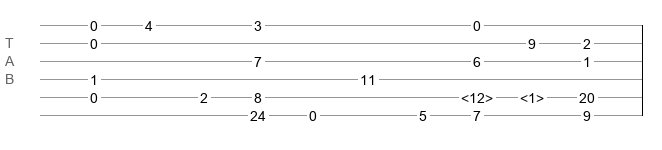0: (90, 36, 98, 46), (90, 18, 98, 28), (90, 90, 98, 100), (309, 108, 317, 118), (473, 18, 481, 28)
1: (90, 72, 98, 82), (583, 54, 591, 64)
11: (360, 72, 376, 82)
2: (200, 90, 208, 100), (583, 36, 591, 46)
20: (579, 90, 595, 100)
24: (250, 108, 266, 118)
3: (254, 18, 262, 28)
4: (145, 18, 153, 28)
5: (419, 108, 427, 118)
6: (473, 54, 481, 64)
7: (254, 54, 262, 64), (473, 108, 481, 118)
8: (254, 90, 262, 100)
9: (528, 36, 536, 46), (583, 108, 591, 118)
harmonic: (461, 90, 493, 100), (520, 90, 544, 100)
